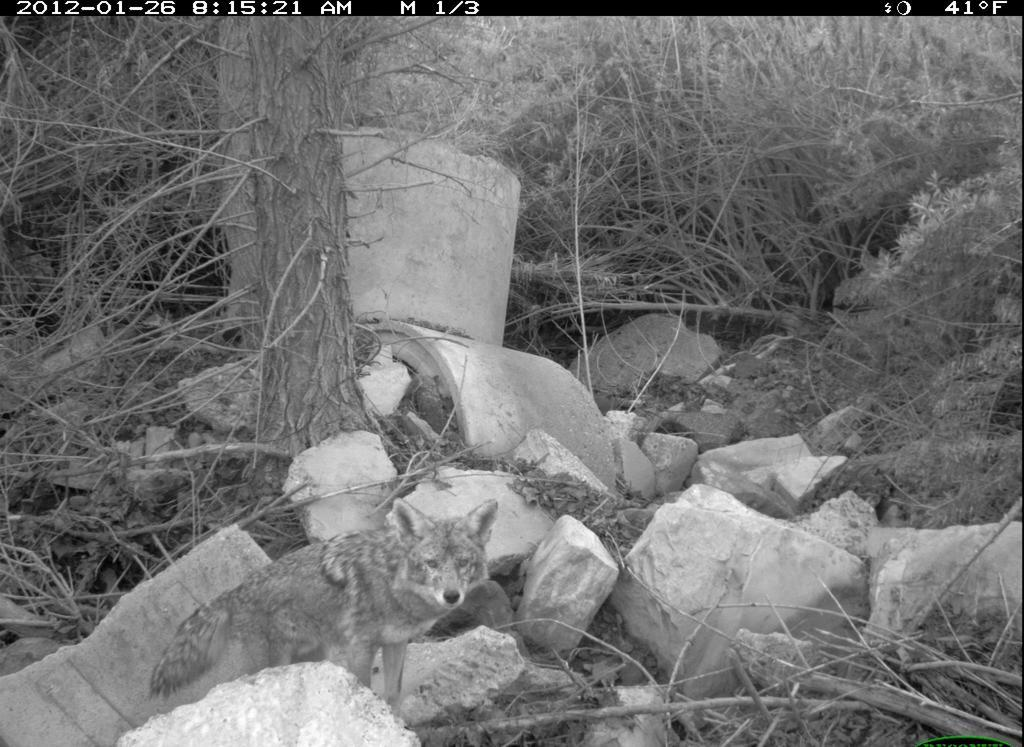coyote: (133, 487, 519, 730)
